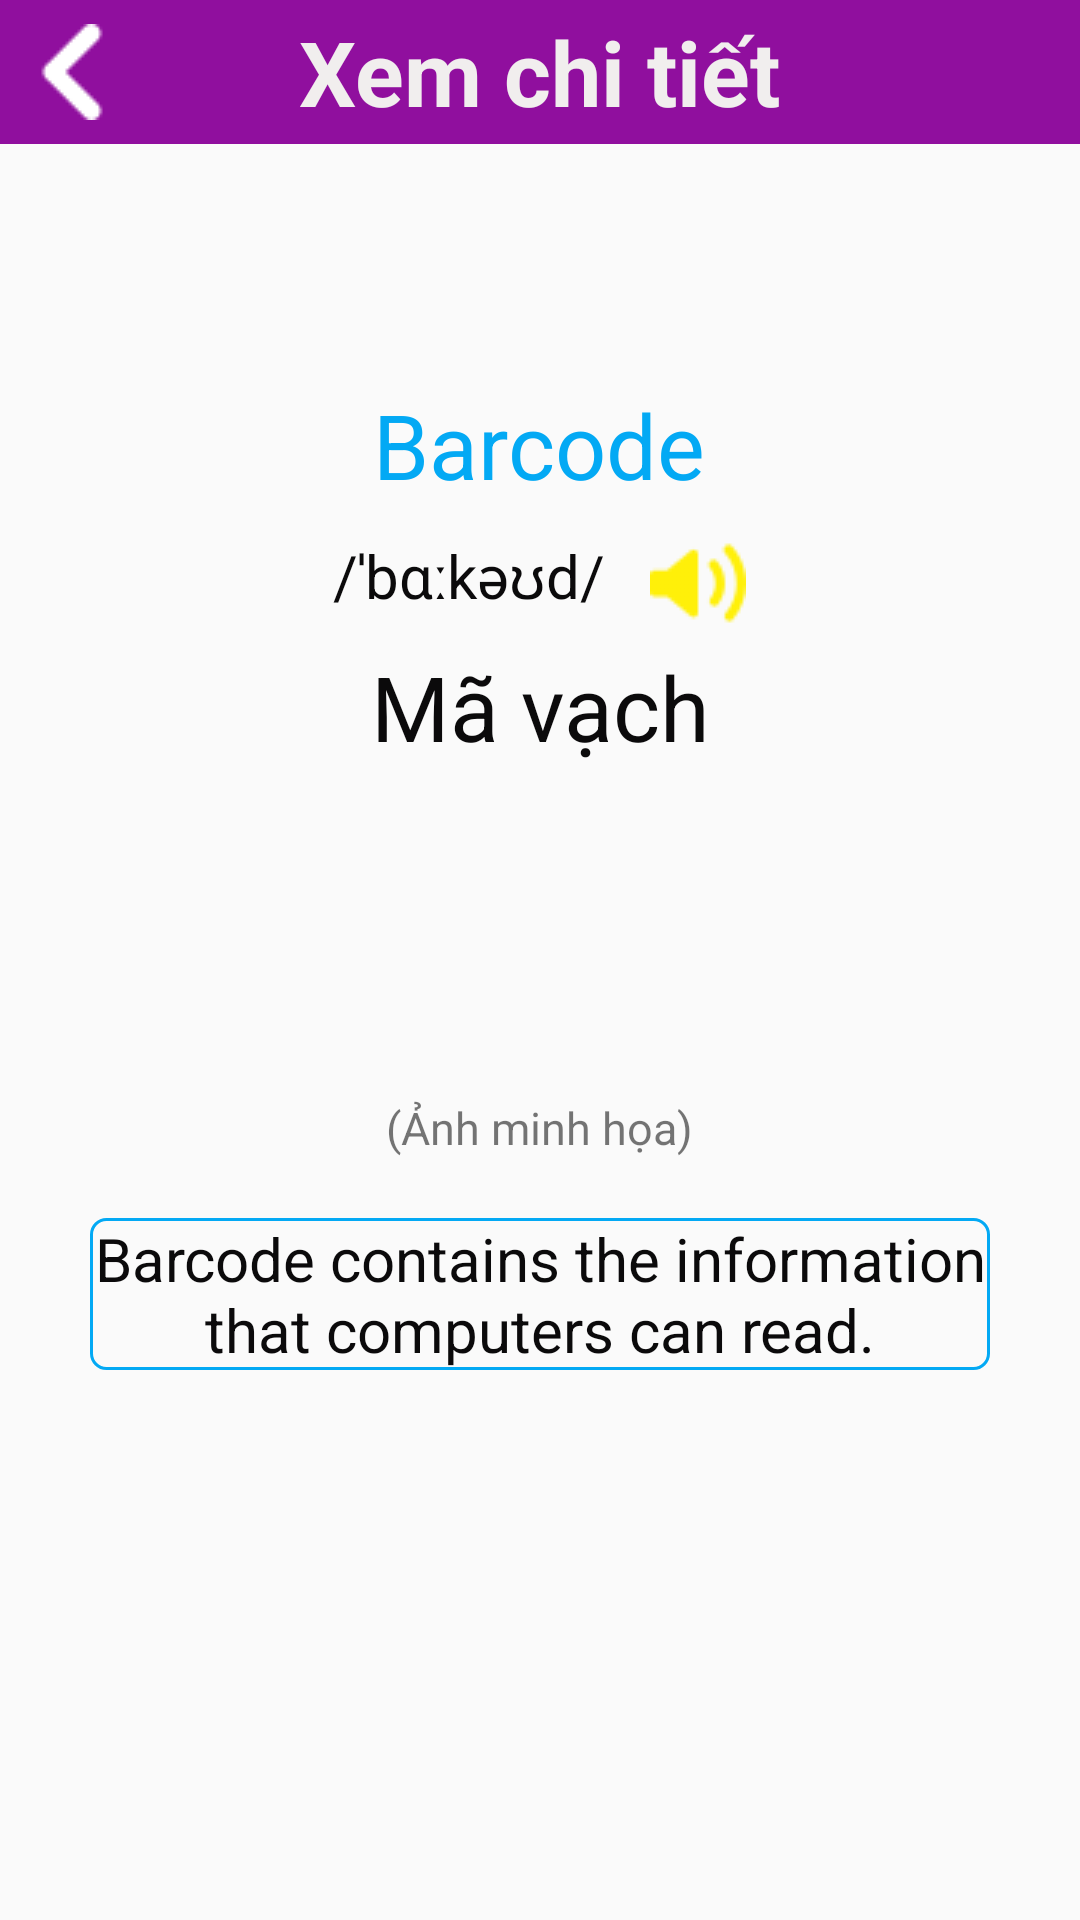

Point at icon controls on the screen. Image size 1080 x 1920, points as (x,y).
backk trang: (72,72)
chitiettuvung loa: (698,583)
